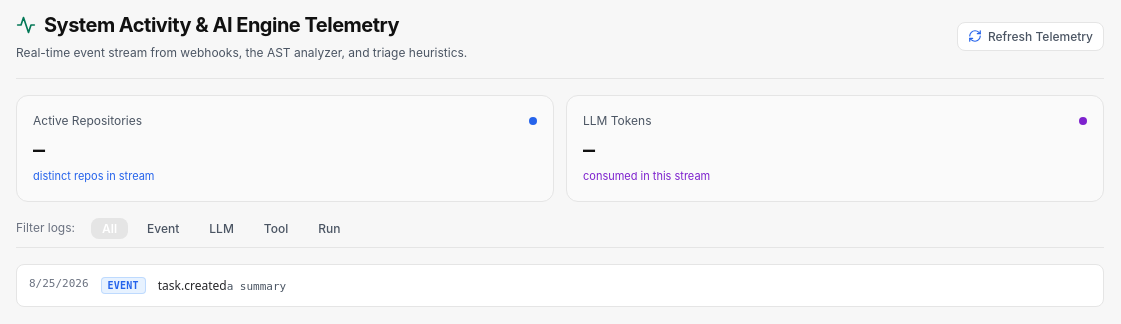
Test: AuditPage › filters by kind via the tabs
The image size is (1121, 324).
Expected: the text "task.created" is shown, [158, 276, 227, 294]
Click the button "LLM": (222, 228) [198, 218, 245, 238]
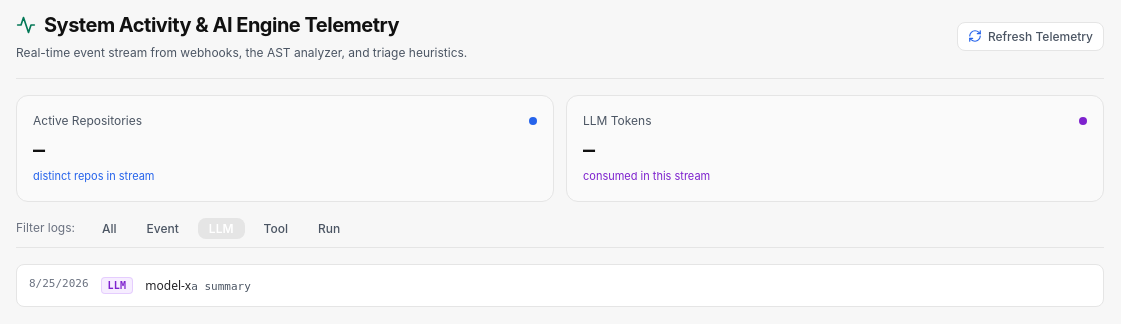
Expected: the text "model-x" is shown, [145, 276, 191, 294]
Expected: the button "task.created" is gone
